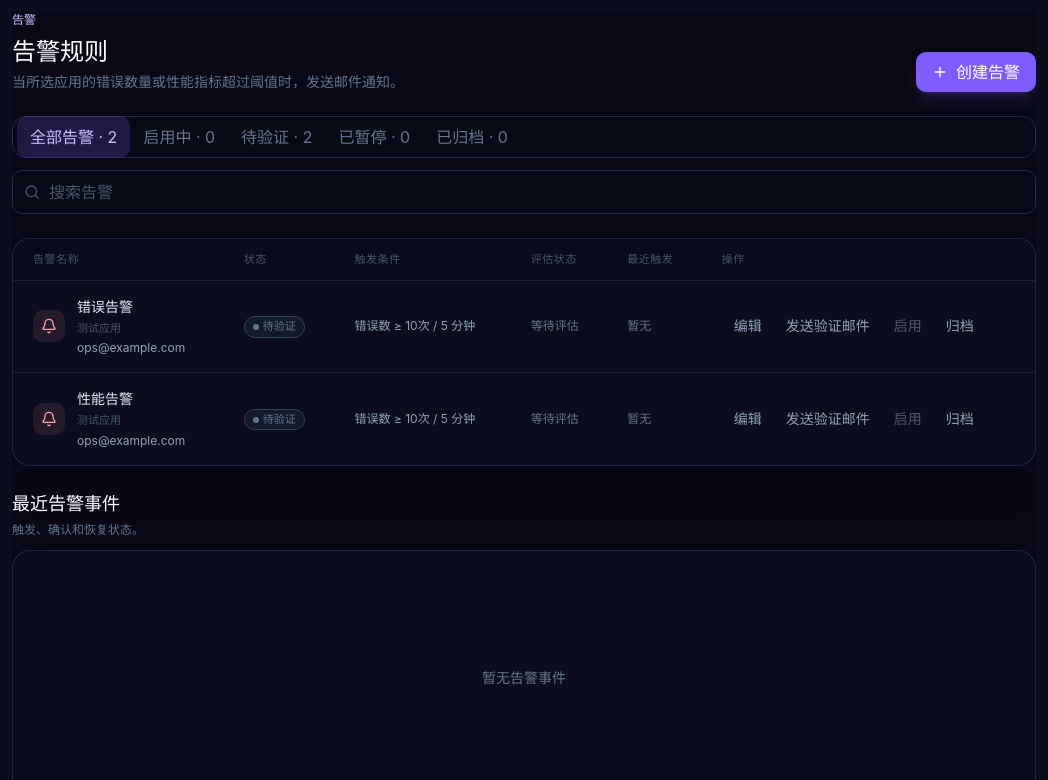
Test: alert rule recipients › stacks a toast per rule when verification emails are sent for multiple rules
Click the button "发送验证邮件" in the row of "错误告警" at (828, 326), box [774, 310, 882, 342]
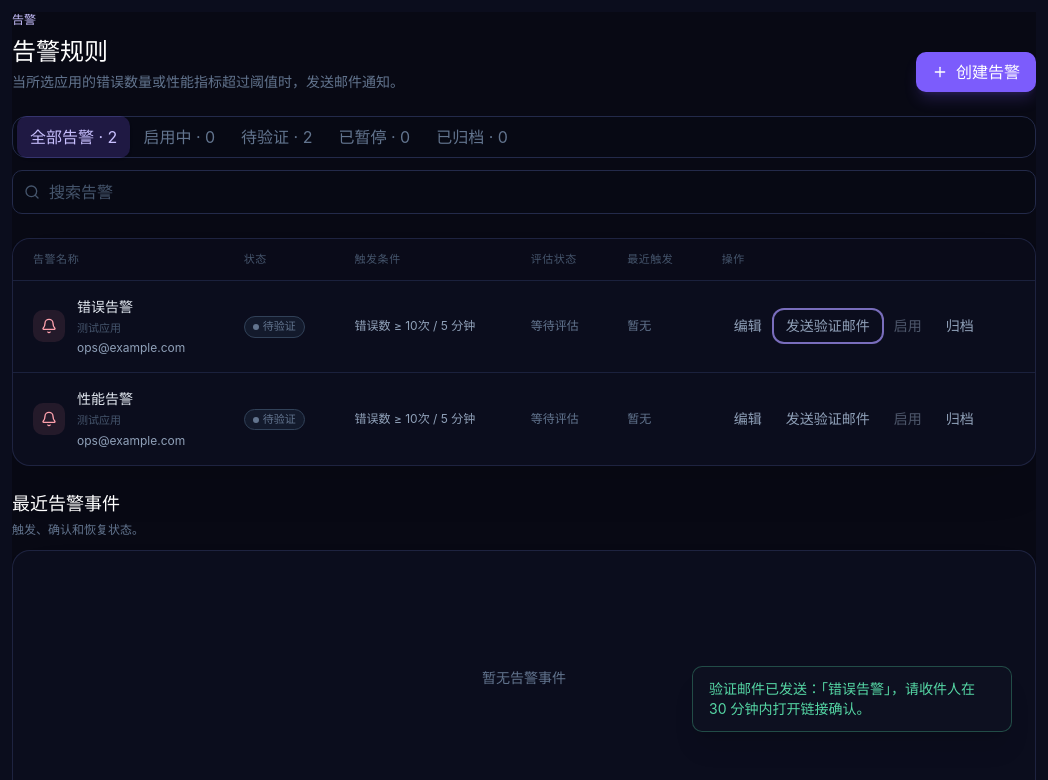
Click the button "发送验证邮件" in the row of "性能告警" at (828, 419), box [774, 403, 882, 435]
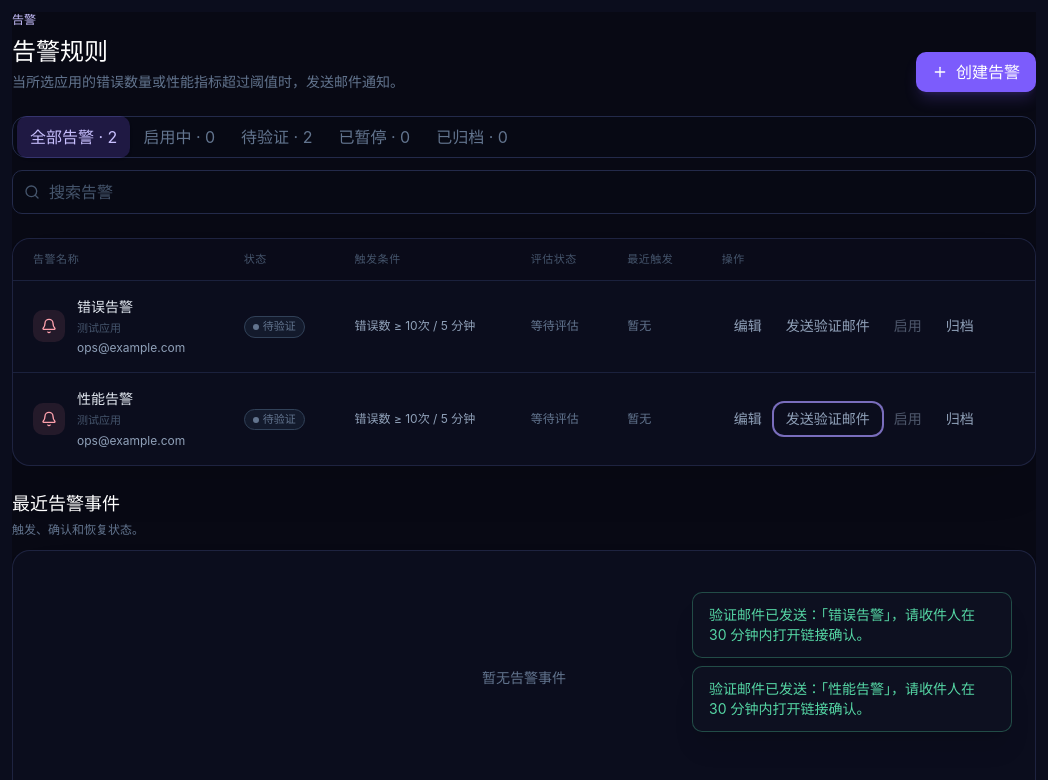
Expected: the message "验证邮件已发送：「错误告警」，请收件人在 30 分钟内打开链接确认。" is shown, [692, 592, 1012, 658]
Expected: the number of messages is 2, [692, 592, 1012, 658]; [692, 666, 1012, 732]
Expected: the message "验证邮件已发送：「性能告警」，请收件人在 30 分钟内打开链接确认。" is shown, [692, 666, 1012, 732]
